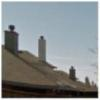chimneys: (4, 25, 19, 57), (38, 36, 48, 64), (68, 65, 76, 81)
